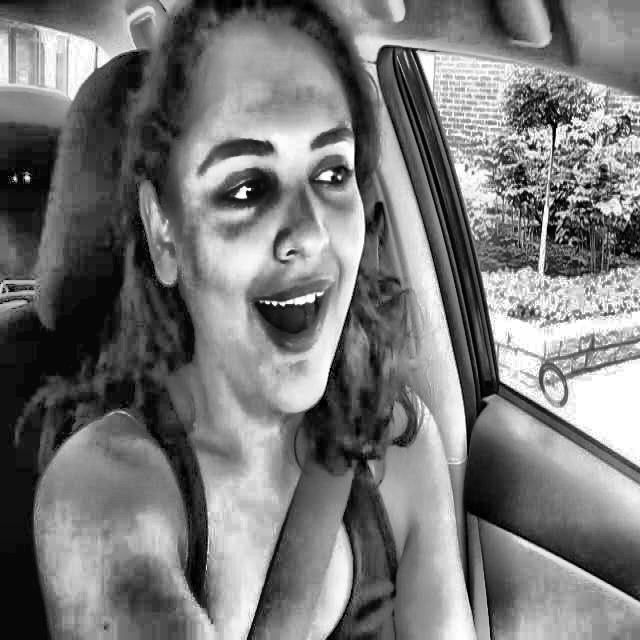open_eyes: (194, 161, 280, 227), (294, 147, 367, 204)
open_mouth: (229, 270, 348, 372)
